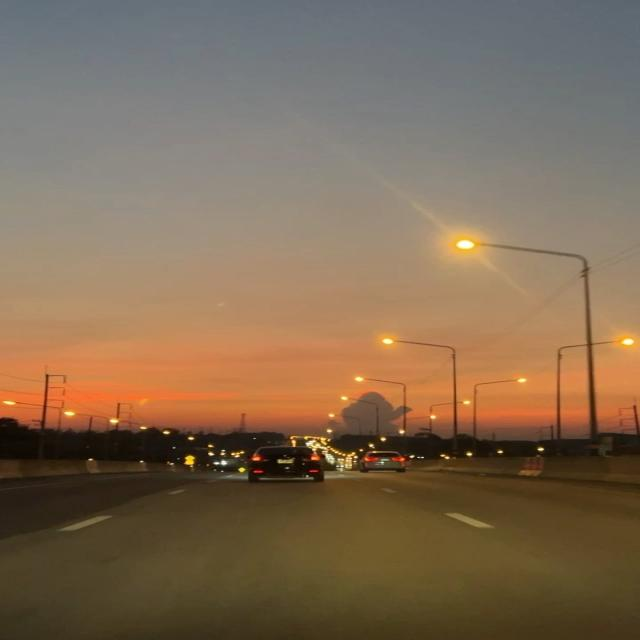Poth-hole: (174, 497, 640, 613)
